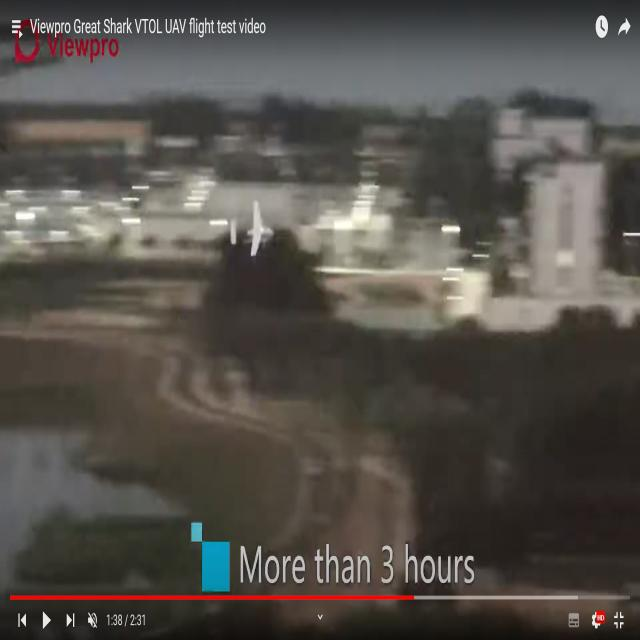iha: (230, 199, 273, 257)
